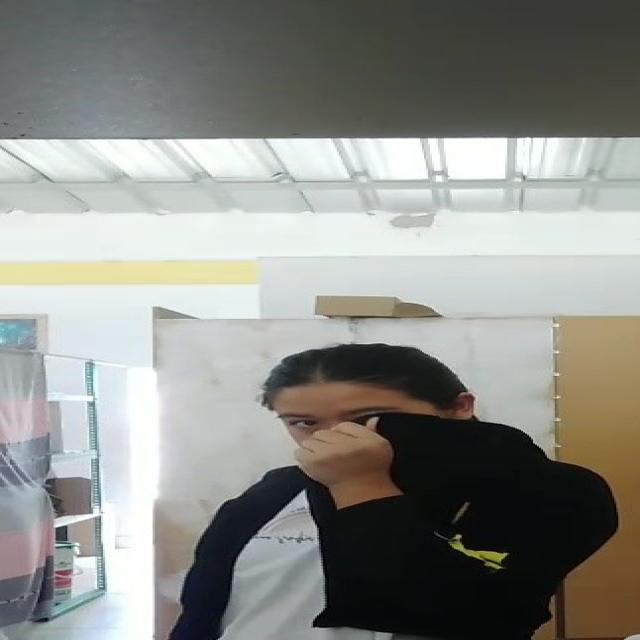8_ropa_rostro: (288, 410, 511, 549)
